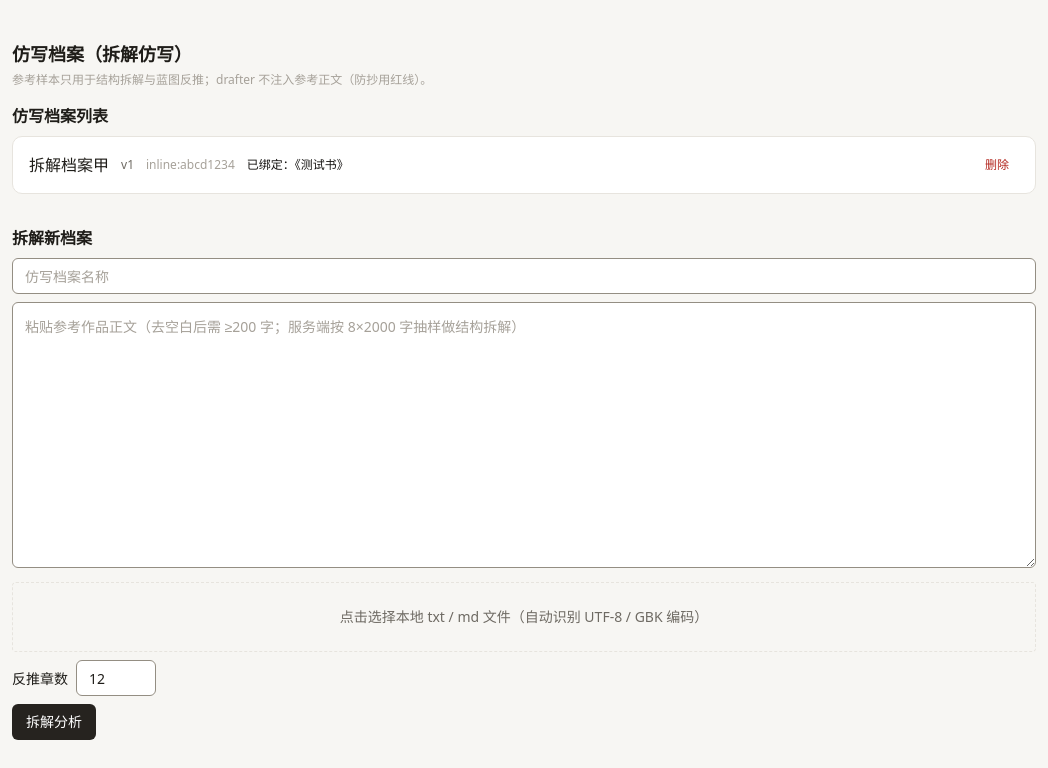
Test: ImitationProfilesSection（D4-T5） › 前置校验：正文去空白不足 200 字 → 拦截提示且不发请求
Check: the text "拆解档案甲" is shown, box 29,153 -> 109,177
In the field labelled "仿写档案名称": [524, 276] box 12,258 -> 1036,294, type "新档案"
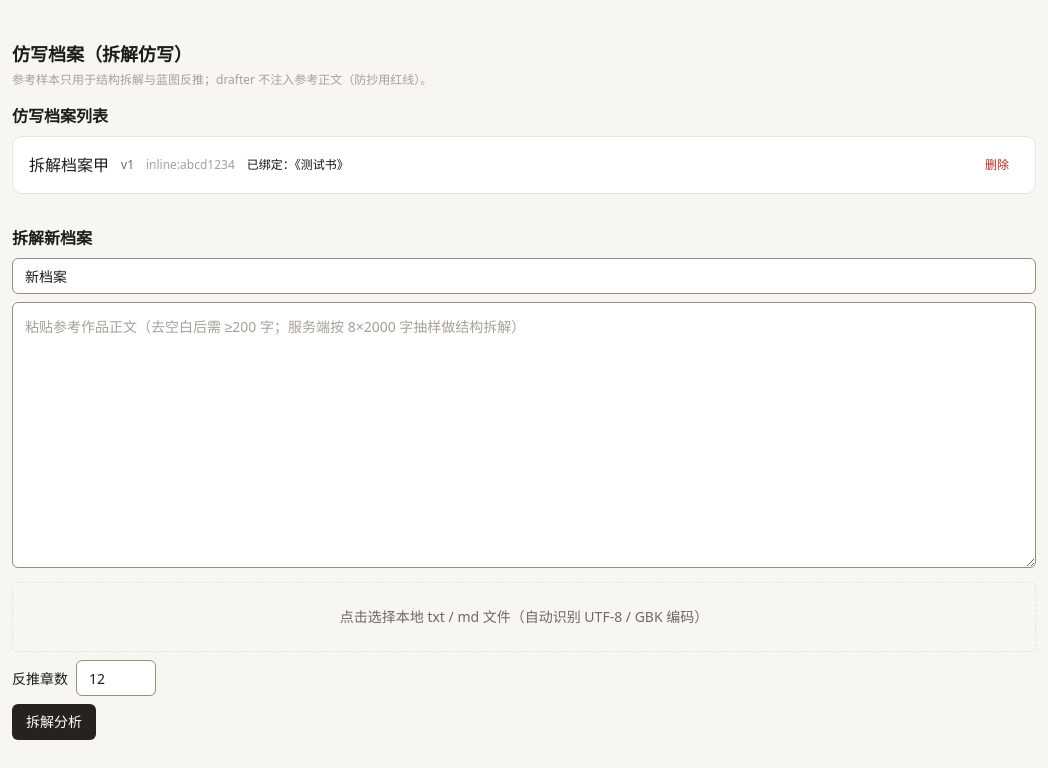
In the text box named "仿写样本": [524, 435] box 12,302 -> 1036,568, type "abc"
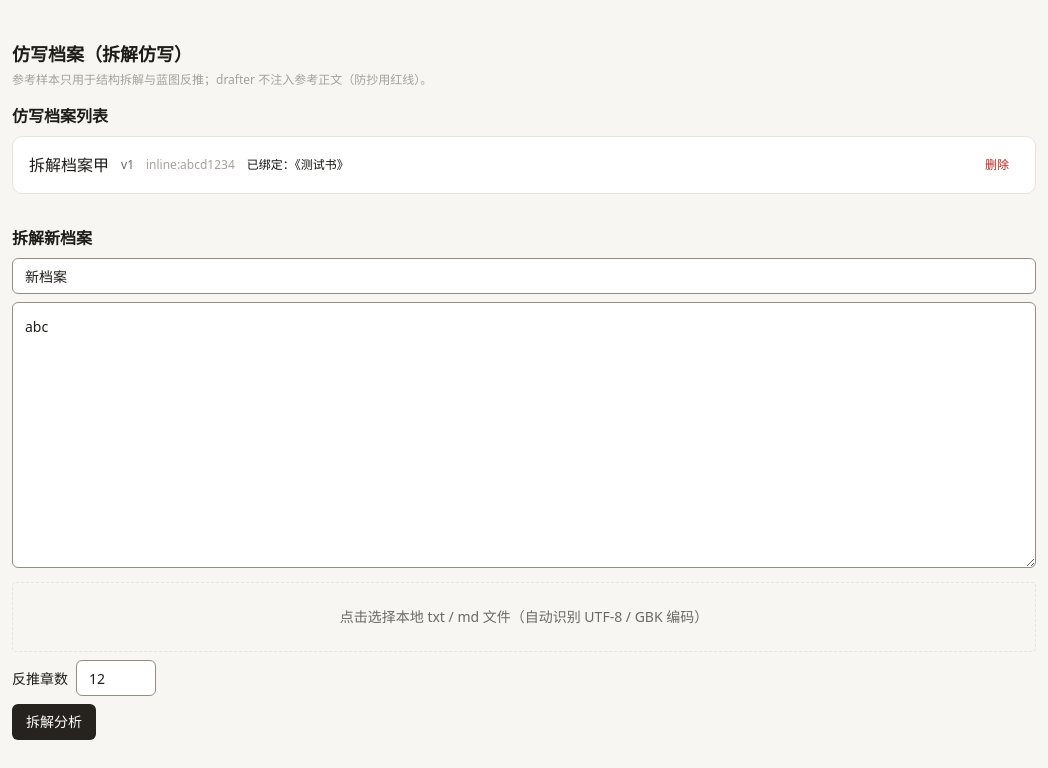
Click the button "拆解分析": [54, 722] box 12,704 -> 96,740
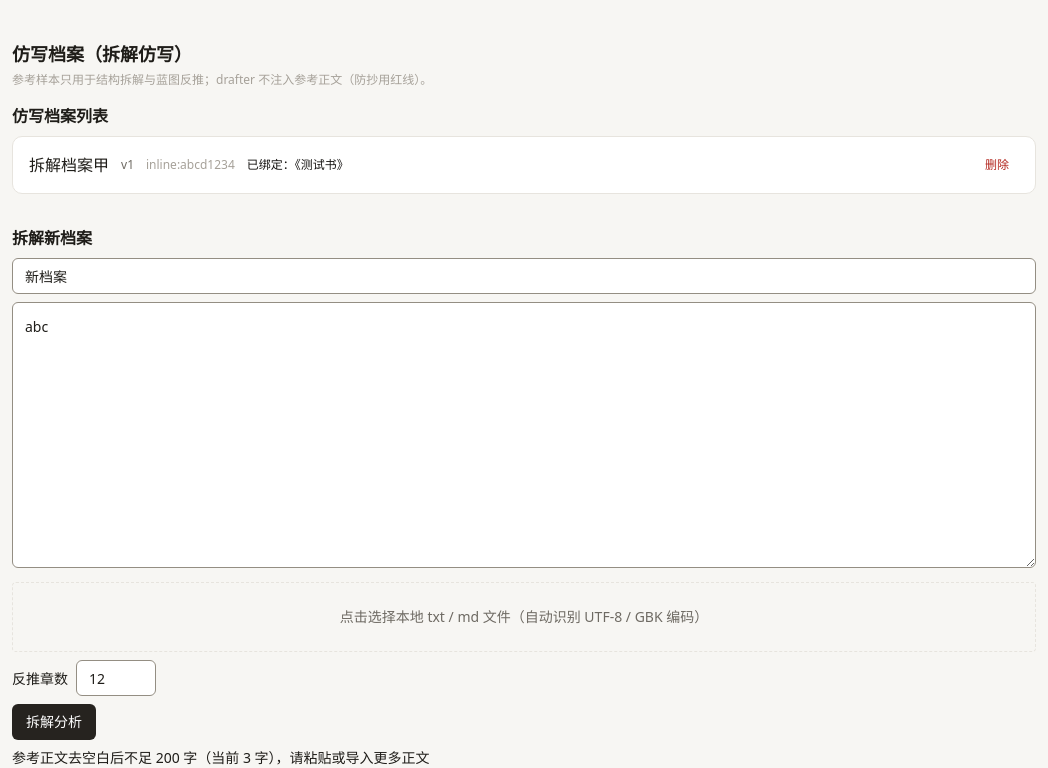
Check: the text "参考正文去空白后不足 200 字（当前 3 字），请粘贴或导入更多正文" is shown, box 12,748 -> 430,767
